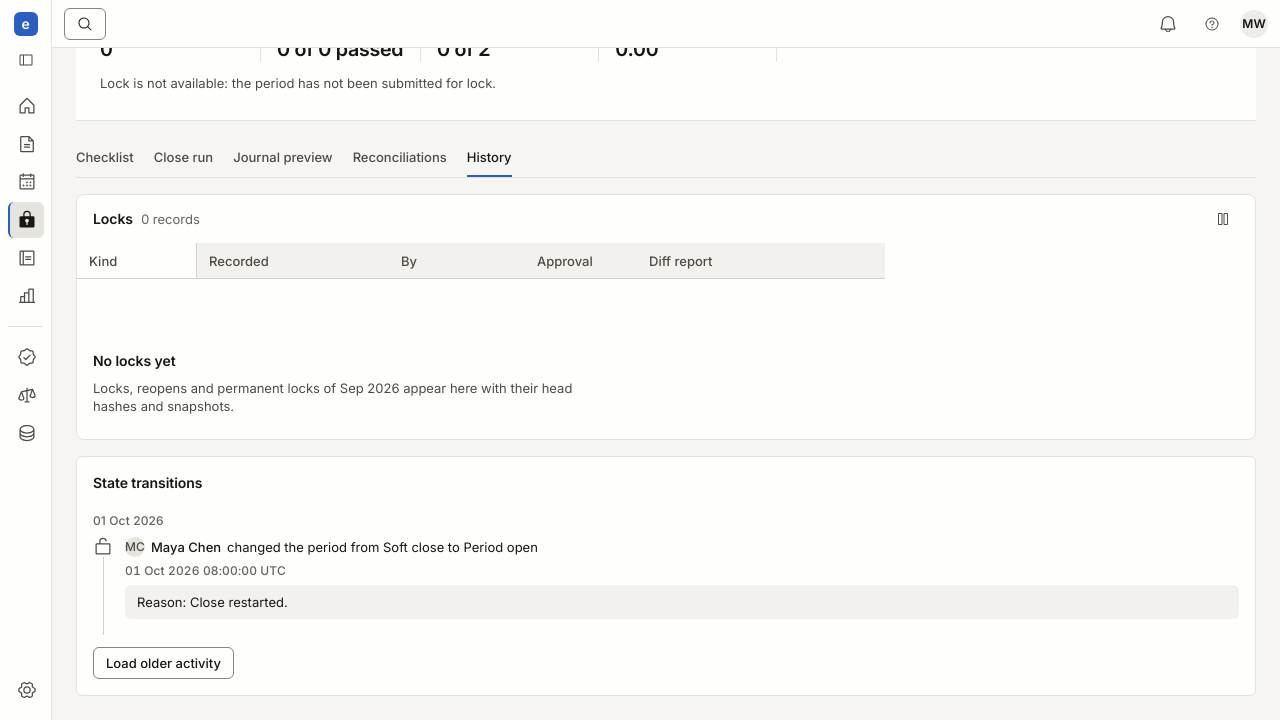
SF-05:history › a period without locks says so; older activity loads a page at a time
(page scrolled)
Expected: the heading "No locks yet" is shown, top-left (93, 351), bottom-right (176, 371)
Expected: the text "Locks, reopens and permanent locks of Sep 2026 appear here with their head hashes and snapshots." is shown, top-left (93, 380), bottom-right (572, 414)
Click the button "Load older activity" at (164, 663), box top-left (93, 647), bottom-right (234, 679)
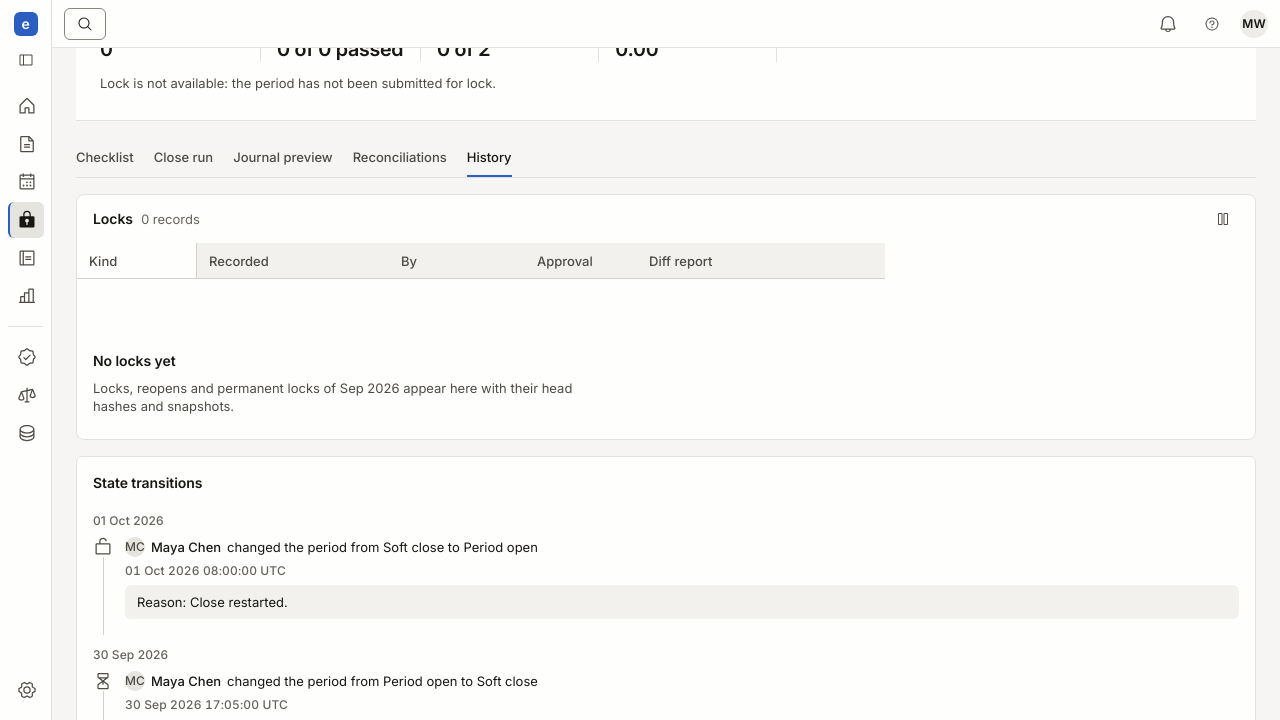
Result: the button "Load older activity" is gone
